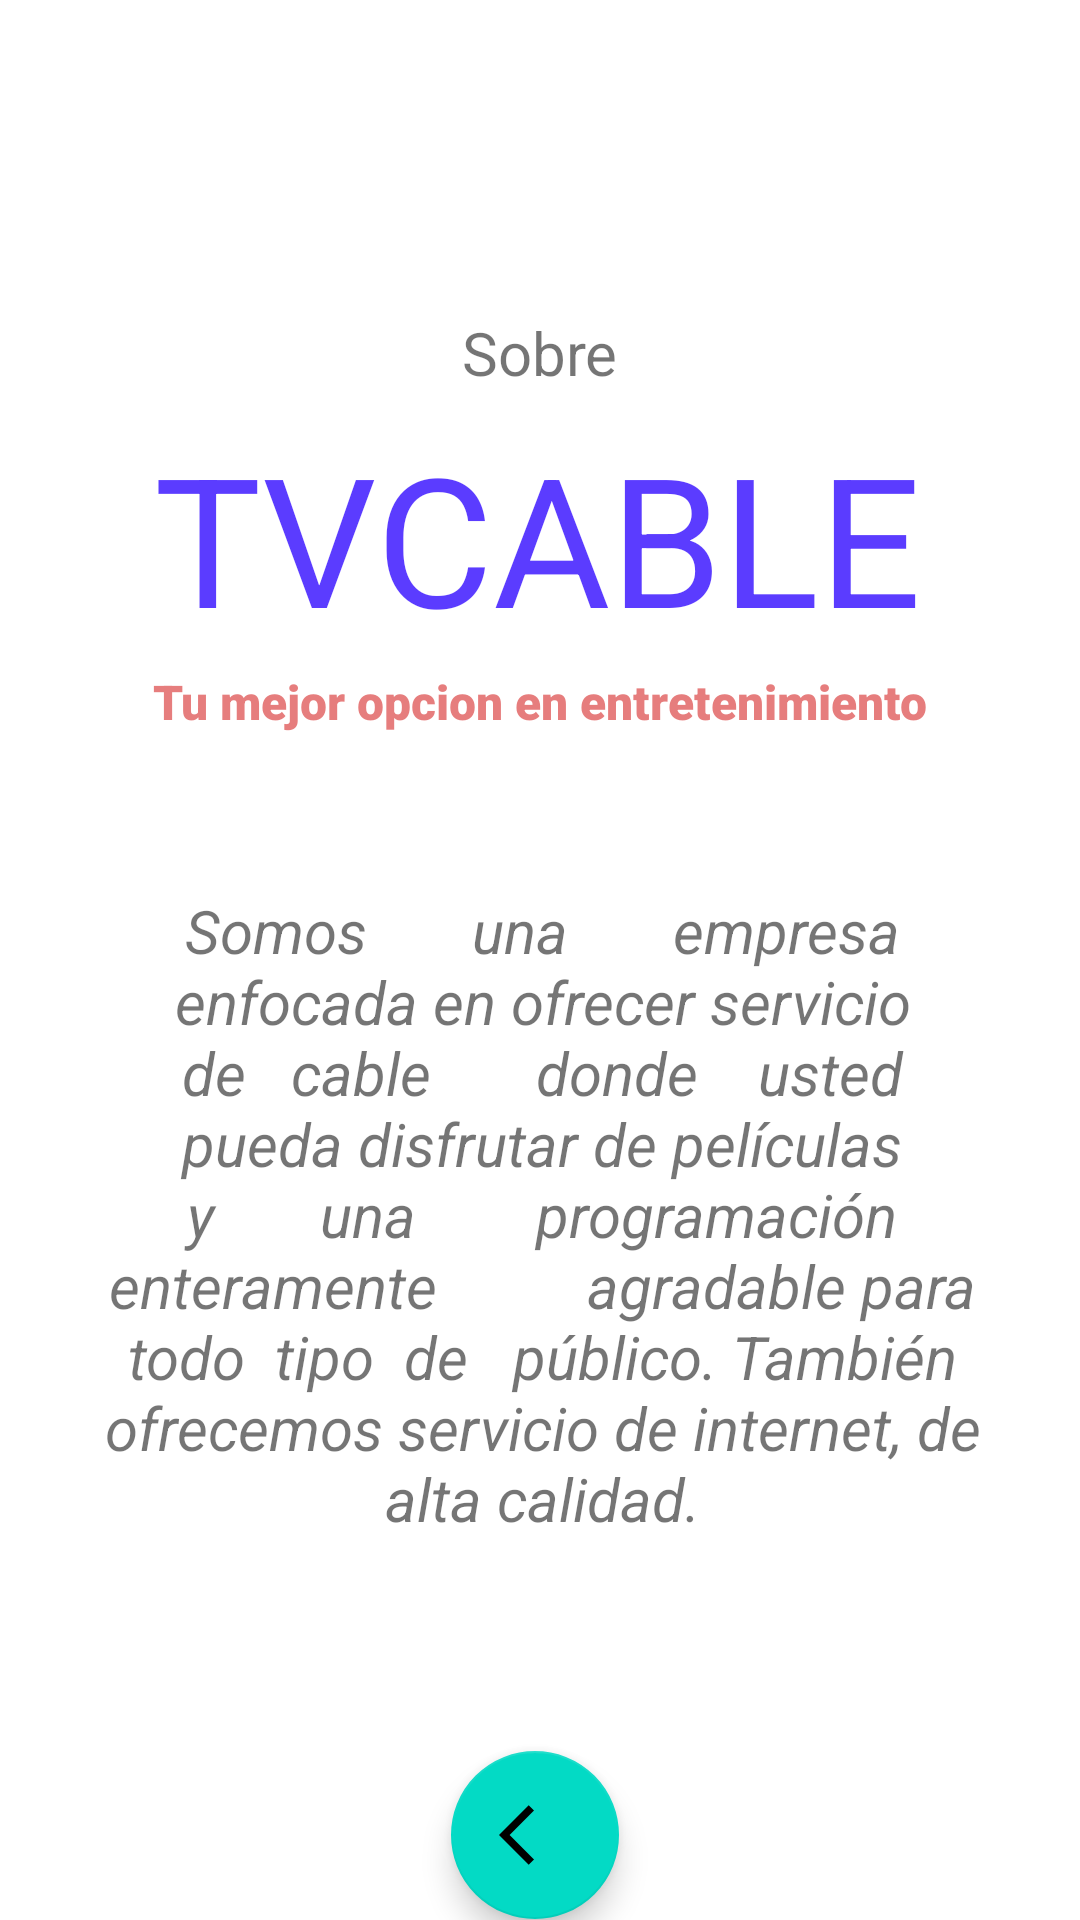

Where to tap for icons on this 1080*1920 app screen, as point (x, y):
arrow back: point (535, 1835)
